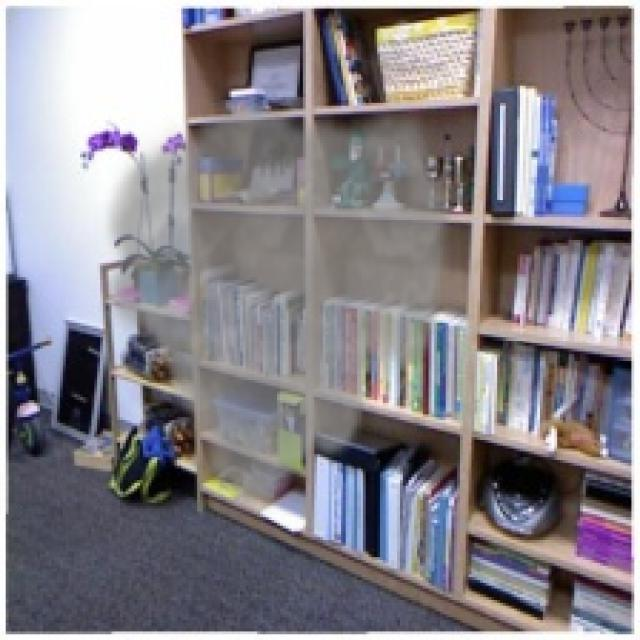Smoke: (94, 94, 457, 520)
